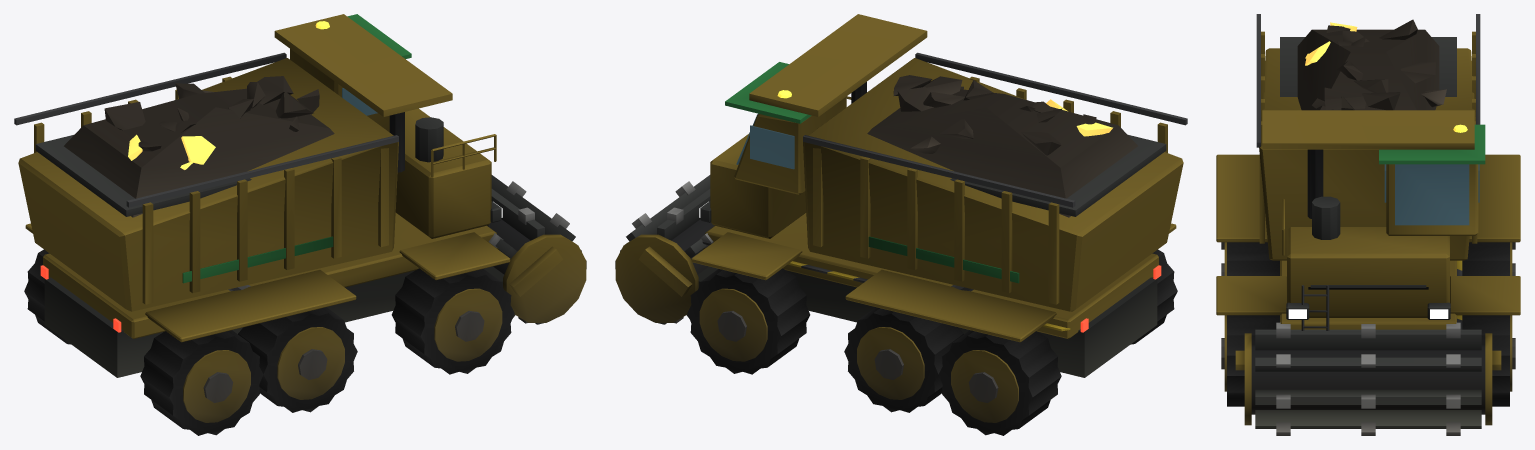
The model's file is u_harv.glb.
3 views of the same model, side by side, from view 1: azimuth 30°, elevation 25°; view 2: azimuth 150°, elevation 25°; view 3: azimuth 270°, elevation 25° (orthographic). The views are drawn at different scales.
Parts seen in each view (by area): view 1: Harv_Walls, Harv_load, Harv_Details, Harv_Foundation, Harv_Frame, Harv_rotor; view 2: Harv_Walls, Harv_Details, Harv_load, Harv_Foundation, Harv_Frame, Harv_rotor; view 3: Harv_Walls, Harv_rotor, Harv_Details, Harv_load, Harv_Foundation, Harv_Frame.
Boxes of the visible parts, x1,y1,x2,y2 form: Harv_Walls: (18,14,562,342); Harv_load: (64,76,334,217); Harv_Details: (14,14,502,402); Harv_Foundation: (24,249,514,435); Harv_Frame: (44,270,502,422); Harv_rotor: (483,175,586,324); Harv_Walls: (638,14,1183,342); Harv_Details: (699,52,1187,402); Harv_load: (867,75,1137,217); Harv_Foundation: (687,249,1177,435); Harv_Frame: (699,270,1157,422); Harv_rotor: (615,175,718,324); Harv_Walls: (1216,37,1520,370); Harv_rotor: (1244,322,1492,435); Harv_Details: (1221,14,1515,369); Harv_load: (1297,19,1446,110); Harv_Foundation: (1227,242,1509,406); Harv_Frame: (1224,242,1512,391).
Bounding box in the file's own units: 1.48 × 0.825 × 0.86.
